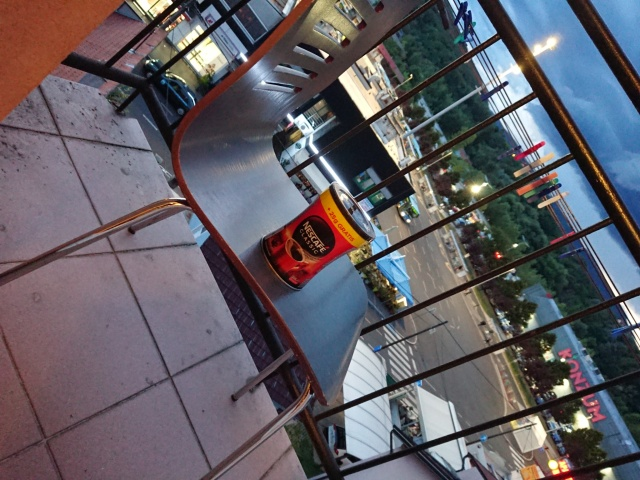Nescafe Classic 225g: (257, 179, 379, 294)
